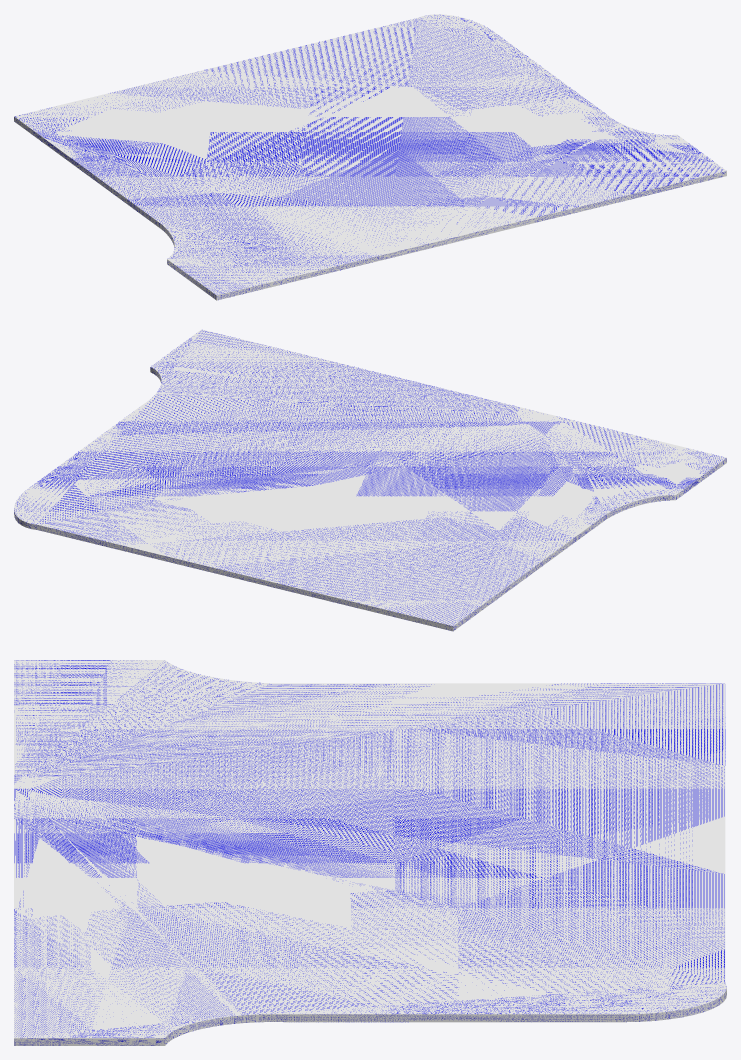
The model's file is original-35.obj.
3 renders of one model, top to bottom at view 1: azimuth 30°, elevation 25°; view 2: azimuth 150°, elevation 25°; view 3: azimuth 270°, elevation 25°, orthographic. The views are drawn at different scales.
Parts seen in each view (by area): view 1: Componente_3_20/Componente_3/mesh11/mesh11-geometry#mesh11-geome; view 2: Componente_3_20/Componente_3/mesh11/mesh11-geometry#mesh11-geome; view 3: Componente_3_20/Componente_3/mesh11/mesh11-geometry#mesh11-geome.
Part boxes in pixels (bbox=[...]): Componente_3_20/Componente_3/mesh11/mesh11-geometry#mesh11-geome: bbox=[14, 14, 726, 300]; Componente_3_20/Componente_3/mesh11/mesh11-geometry#mesh11-geome: bbox=[14, 329, 726, 631]; Componente_3_20/Componente_3/mesh11/mesh11-geometry#mesh11-geome: bbox=[14, 660, 726, 1045].
Size of the model in its own units: 0.078 by 0.000748 by 0.0621.
